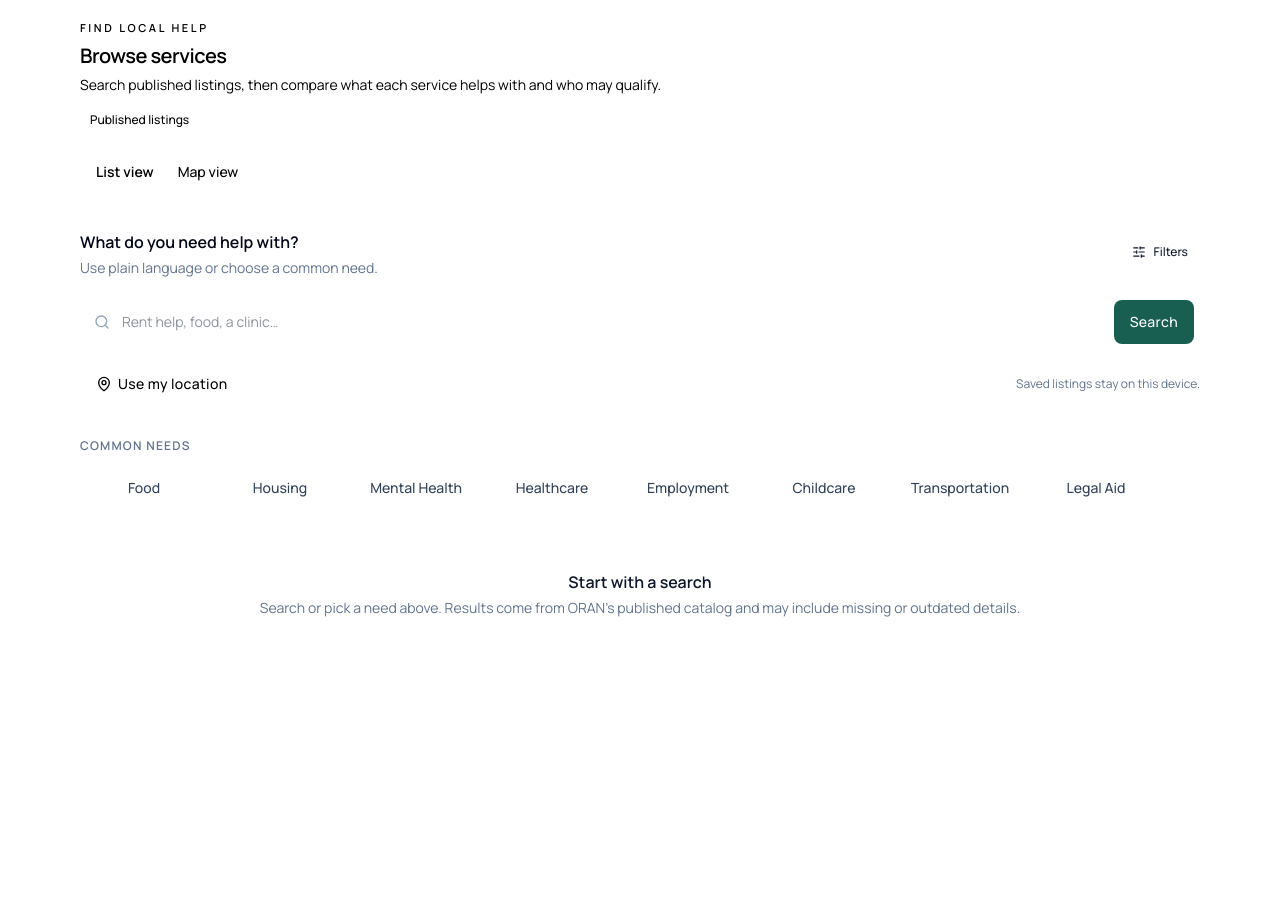
Test: DirectoryPageClient › handles geolocation permission-denied branch
Step 1. Click the button "Use my location" → x=162, y=384, box [80,362,244,406]
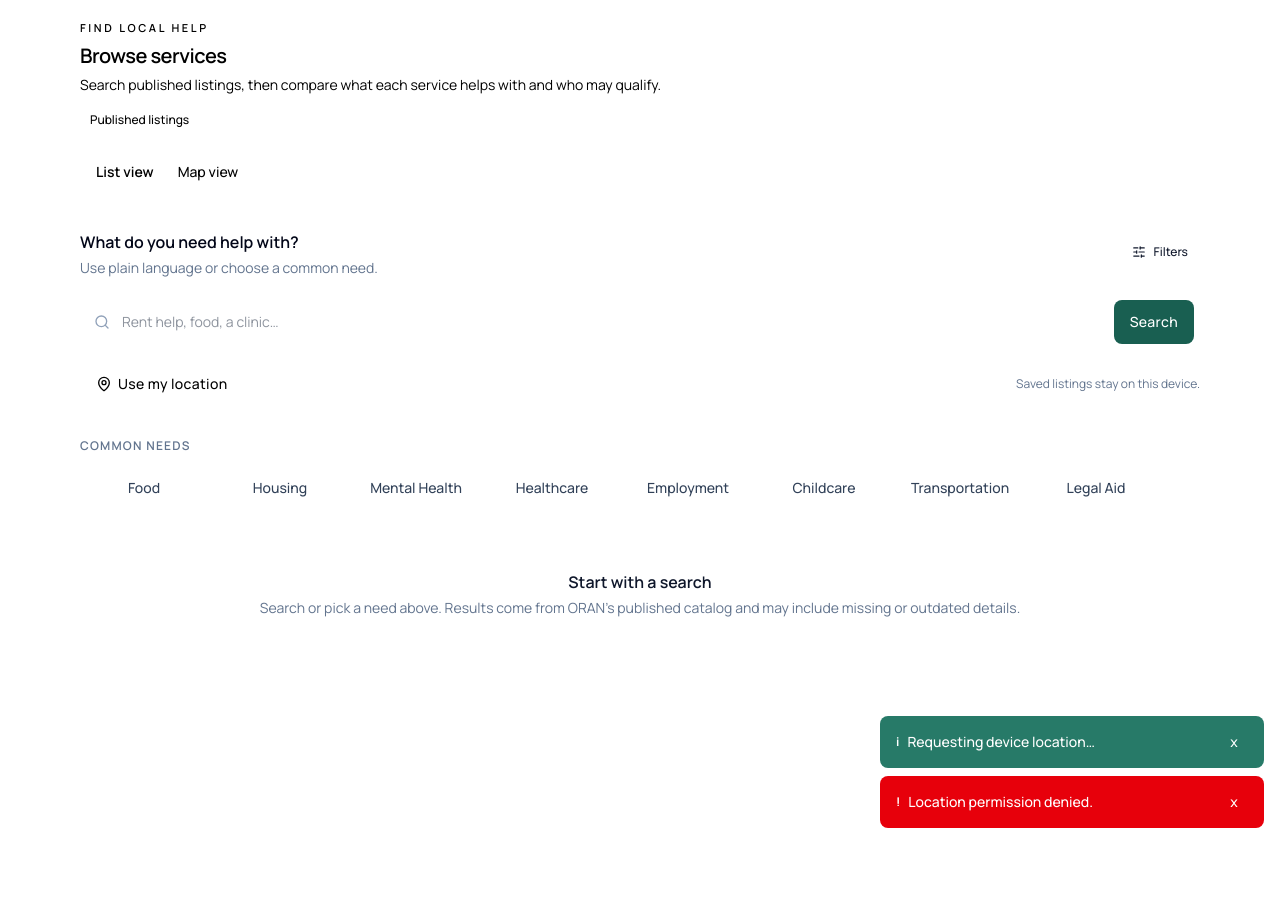
Result: the text "Location permission denied." is shown at [908,792,1093,811]
